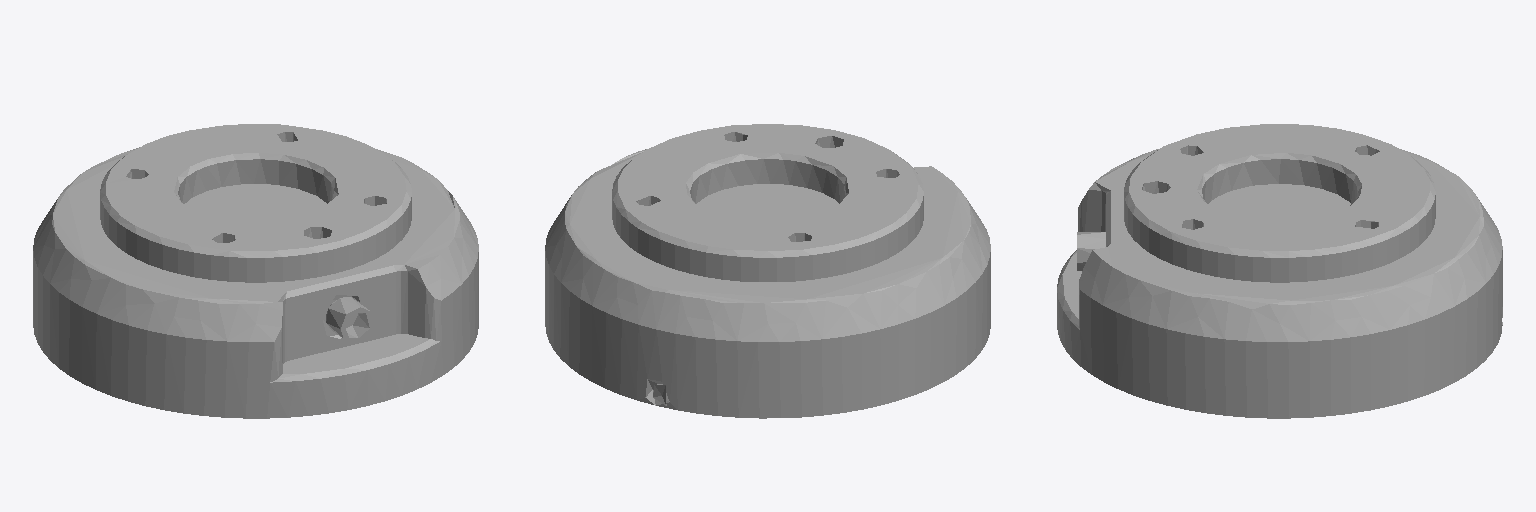
The picture shows the model from 3 angles: view 1: azimuth 30°, elevation 25°; view 2: azimuth 150°, elevation 25°; view 3: azimuth 270°, elevation 25°; orthographic projection.
Visible parts, largest first — view 1: wrist3; view 2: wrist3; view 3: wrist3.
Part boxes in pixels (left/top/right/bottom): wrist3: left=33, top=124, right=478, bottom=418; wrist3: left=545, top=124, right=990, bottom=418; wrist3: left=1057, top=124, right=1502, bottom=418.
Size of the model in its own units: 0.0899 by 0.0305 by 0.0901.
1 materials, 1 textured.